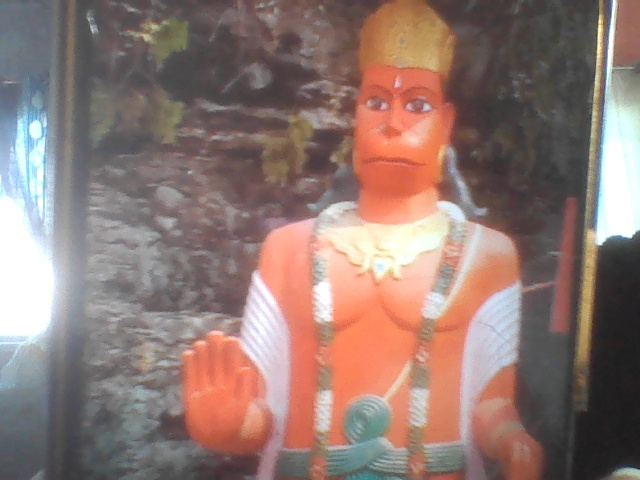fake: (343, 0, 484, 200)
